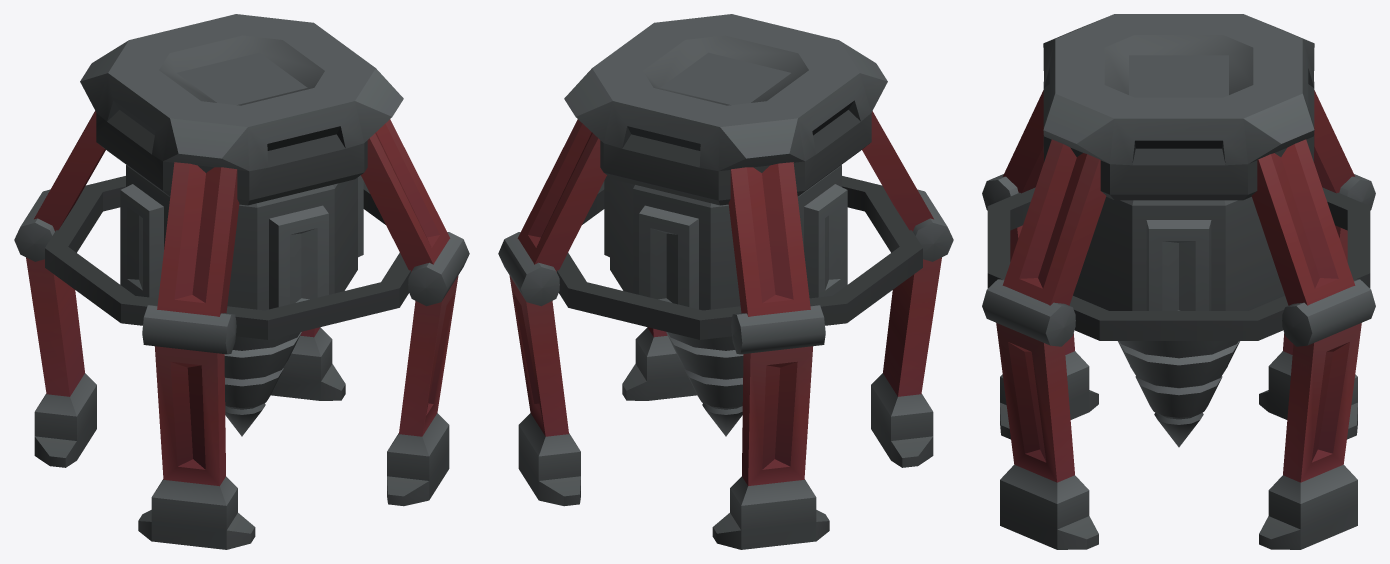
The model's file is drill-BAnje_lD.glb.
3 views of the same model, side by side, from view 1: azimuth 30°, elevation 25°; view 2: azimuth 150°, elevation 25°; view 3: azimuth 270°, elevation 25° (orthographic). The views are drawn at different scales.
Visible parts, largest first — view 1: Cylinder.2728, drill_module; view 2: Cylinder.2728, drill_module; view 3: Cylinder.2728, drill_module.
Boxes of the visible parts, x1,y1,x2,y2 form: Cylinder.2728: (14, 14, 469, 549); drill_module: (120, 165, 363, 436); Cylinder.2728: (498, 14, 953, 549); drill_module: (604, 165, 847, 436); Cylinder.2728: (982, 14, 1375, 549); drill_module: (1073, 197, 1284, 447).
Size of the model in its own units: 1.75 by 2 by 1.75.
Materials: 1 (1 with a texture image).
